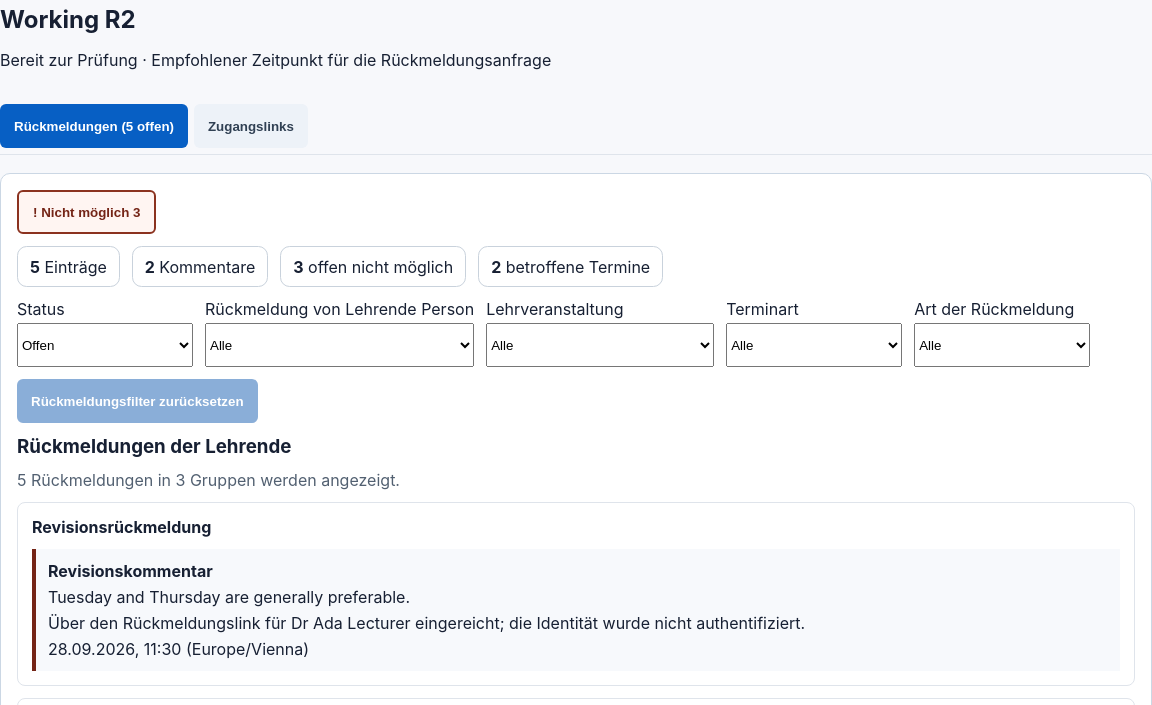
Test: LecturerReviewManagement planner feedback filter › uses visible non-color kind labels and retains historical session context without a guessed action
The width and height of the screenshot is (1152, 705).
Select "Erledigt" in the dropdown labelled "Status". click: (105, 345)
box: [17,323,193,367]
(page scrolled)
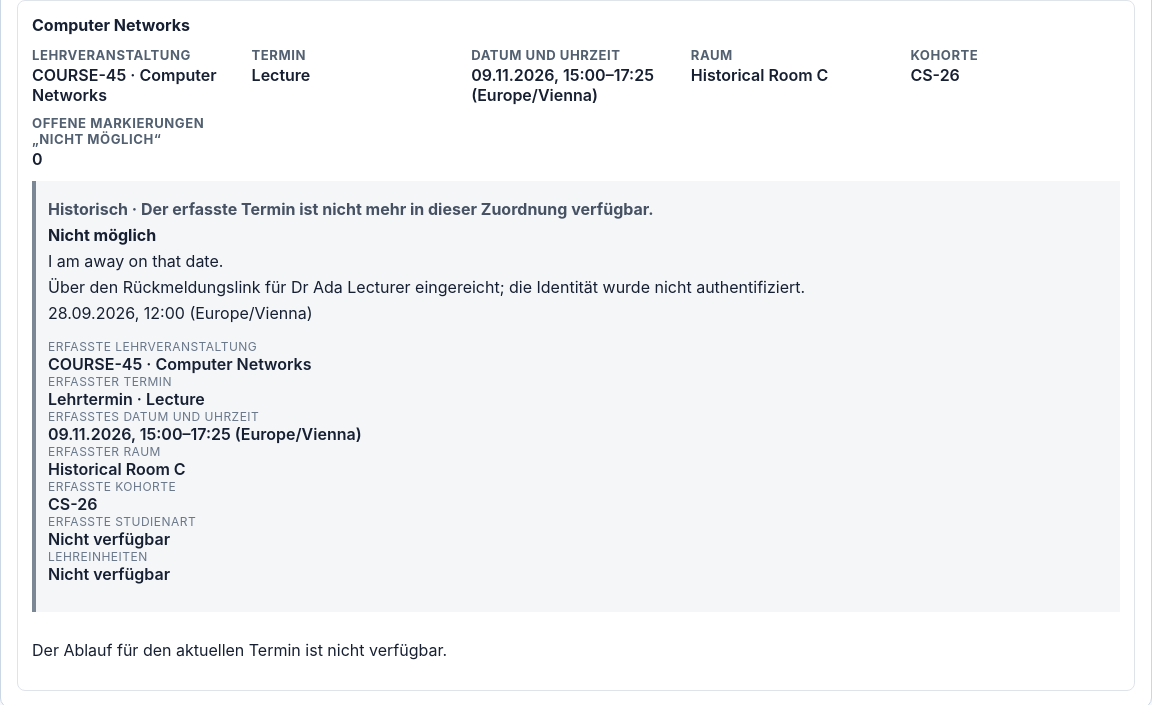
expect the element that starts with "Computer Networks" shows "Nicht möglich": met, box [48,225,156,245]
expect the element that starts with "Computer Networks" shows "COURSE-45": met, box [32,65,126,85]
expect the element that starts with "Computer Networks" shows "09.11.2026": met, box [471,65,554,85]
